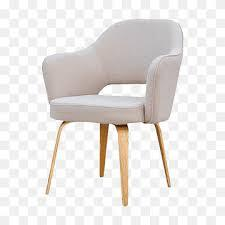chair: (40, 17, 186, 209)
